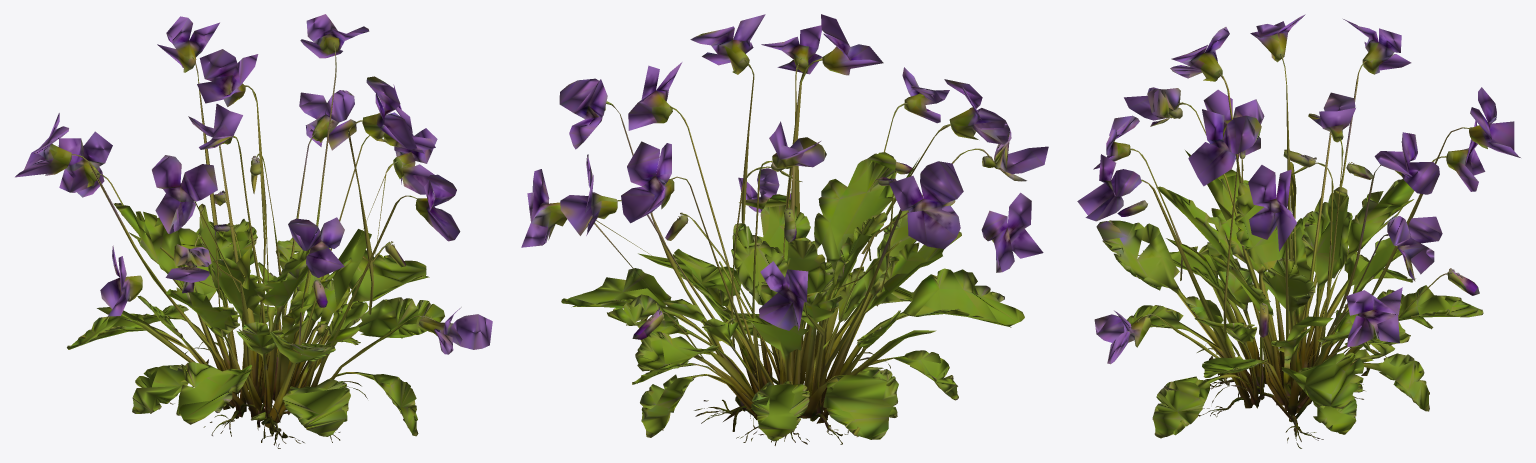
The model's file is TianYuHua.glb.
The picture shows the model from 3 angles, left to right: view 1: azimuth 30°, elevation 25°; view 2: azimuth 150°, elevation 25°; view 3: azimuth 270°, elevation 25°; orthographic projection. The views are drawn at different scales.
Parts seen in each view (by area): view 1: tripo_node_b06a8b13-b478-40c0-bcbf-d4bdc901344a; view 2: tripo_node_b06a8b13-b478-40c0-bcbf-d4bdc901344a; view 3: tripo_node_b06a8b13-b478-40c0-bcbf-d4bdc901344a.
Boxes of the visible parts, bbox=[...] form: tripo_node_b06a8b13-b478-40c0-bcbf-d4bdc901344a: bbox=[15, 14, 492, 448]; tripo_node_b06a8b13-b478-40c0-bcbf-d4bdc901344a: bbox=[521, 14, 1048, 445]; tripo_node_b06a8b13-b478-40c0-bcbf-d4bdc901344a: bbox=[1077, 14, 1520, 448].
Bounding box in the file's own units: 0.998 × 0.9082 × 0.9551.
Materials: 1 (1 with a texture image).
